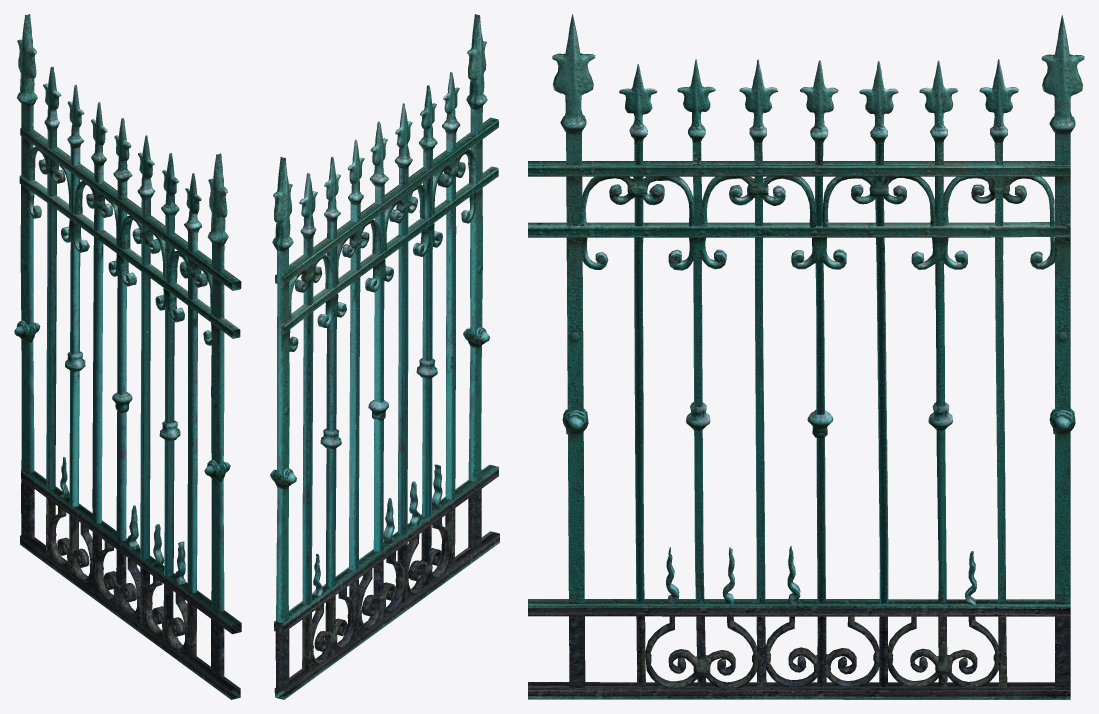
Rendered from sm_OldFence_02_06_Gate.fbx.
3 renders of one model, left to right at view 1: azimuth 30°, elevation 25°; view 2: azimuth 150°, elevation 25°; view 3: azimuth 270°, elevation 25°, orthographic. The views are drawn at different scales.
Parts seen in each view (by area): view 1: sm_OldFence_02_06_Gate_LOD0; view 2: sm_OldFence_02_06_Gate_LOD0; view 3: sm_OldFence_02_06_Gate_LOD0.
Boxes of the visible parts, box(x1,y1,x2,y2) form: sm_OldFence_02_06_Gate_LOD0: box(14, 14, 241, 699); sm_OldFence_02_06_Gate_LOD0: box(270, 14, 499, 699); sm_OldFence_02_06_Gate_LOD0: box(528, 14, 1084, 699).
Bounding box in the file's own units: 10.8 × 164 × 221.
